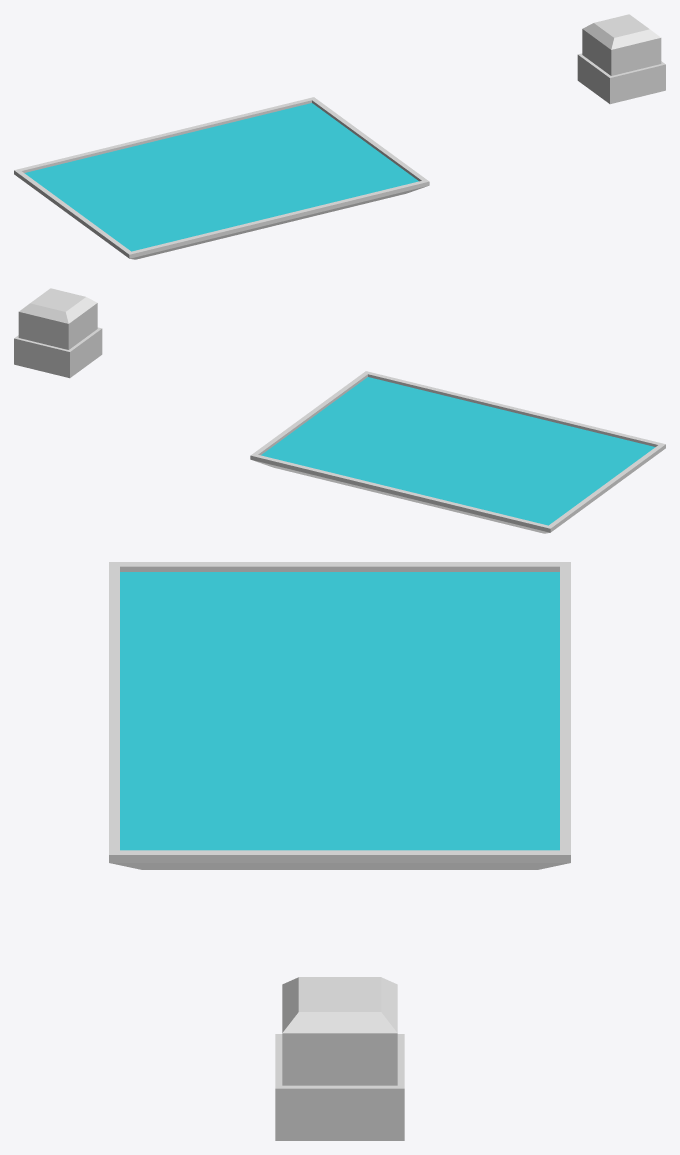
The picture shows the model from 3 angles, top to bottom: view 1: azimuth 30°, elevation 25°; view 2: azimuth 150°, elevation 25°; view 3: azimuth 270°, elevation 25°; orthographic projection. The views are drawn at different scales.
Parts seen in each view (by area): view 1: Cube, Cube.001; view 2: Cube, Cube.001; view 3: Cube, Cube.001.
Boxes of the visible parts, x1,y1,x2,y2 form: Cube: (14, 97, 429, 259); Cube.001: (577, 14, 665, 104); Cube: (250, 371, 665, 533); Cube.001: (14, 288, 102, 378); Cube: (109, 562, 570, 869); Cube.001: (275, 977, 404, 1140).
Size of the model in its own units: 1156 by 128 by 400.
